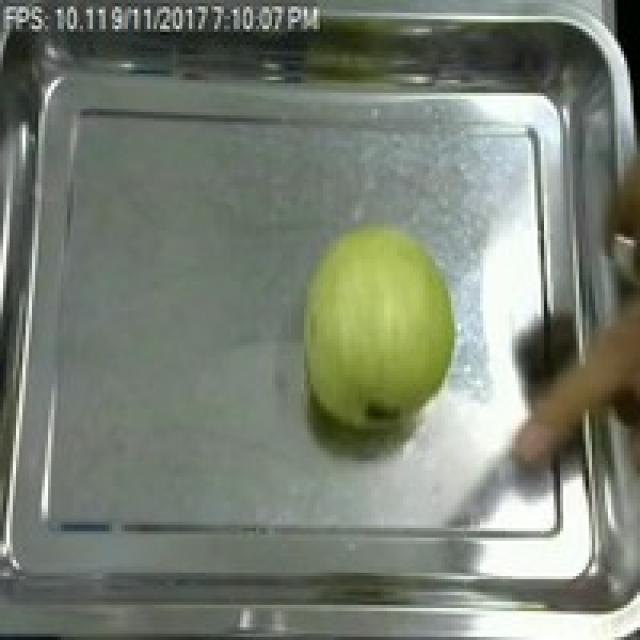Fruit: (292, 211, 470, 442)
